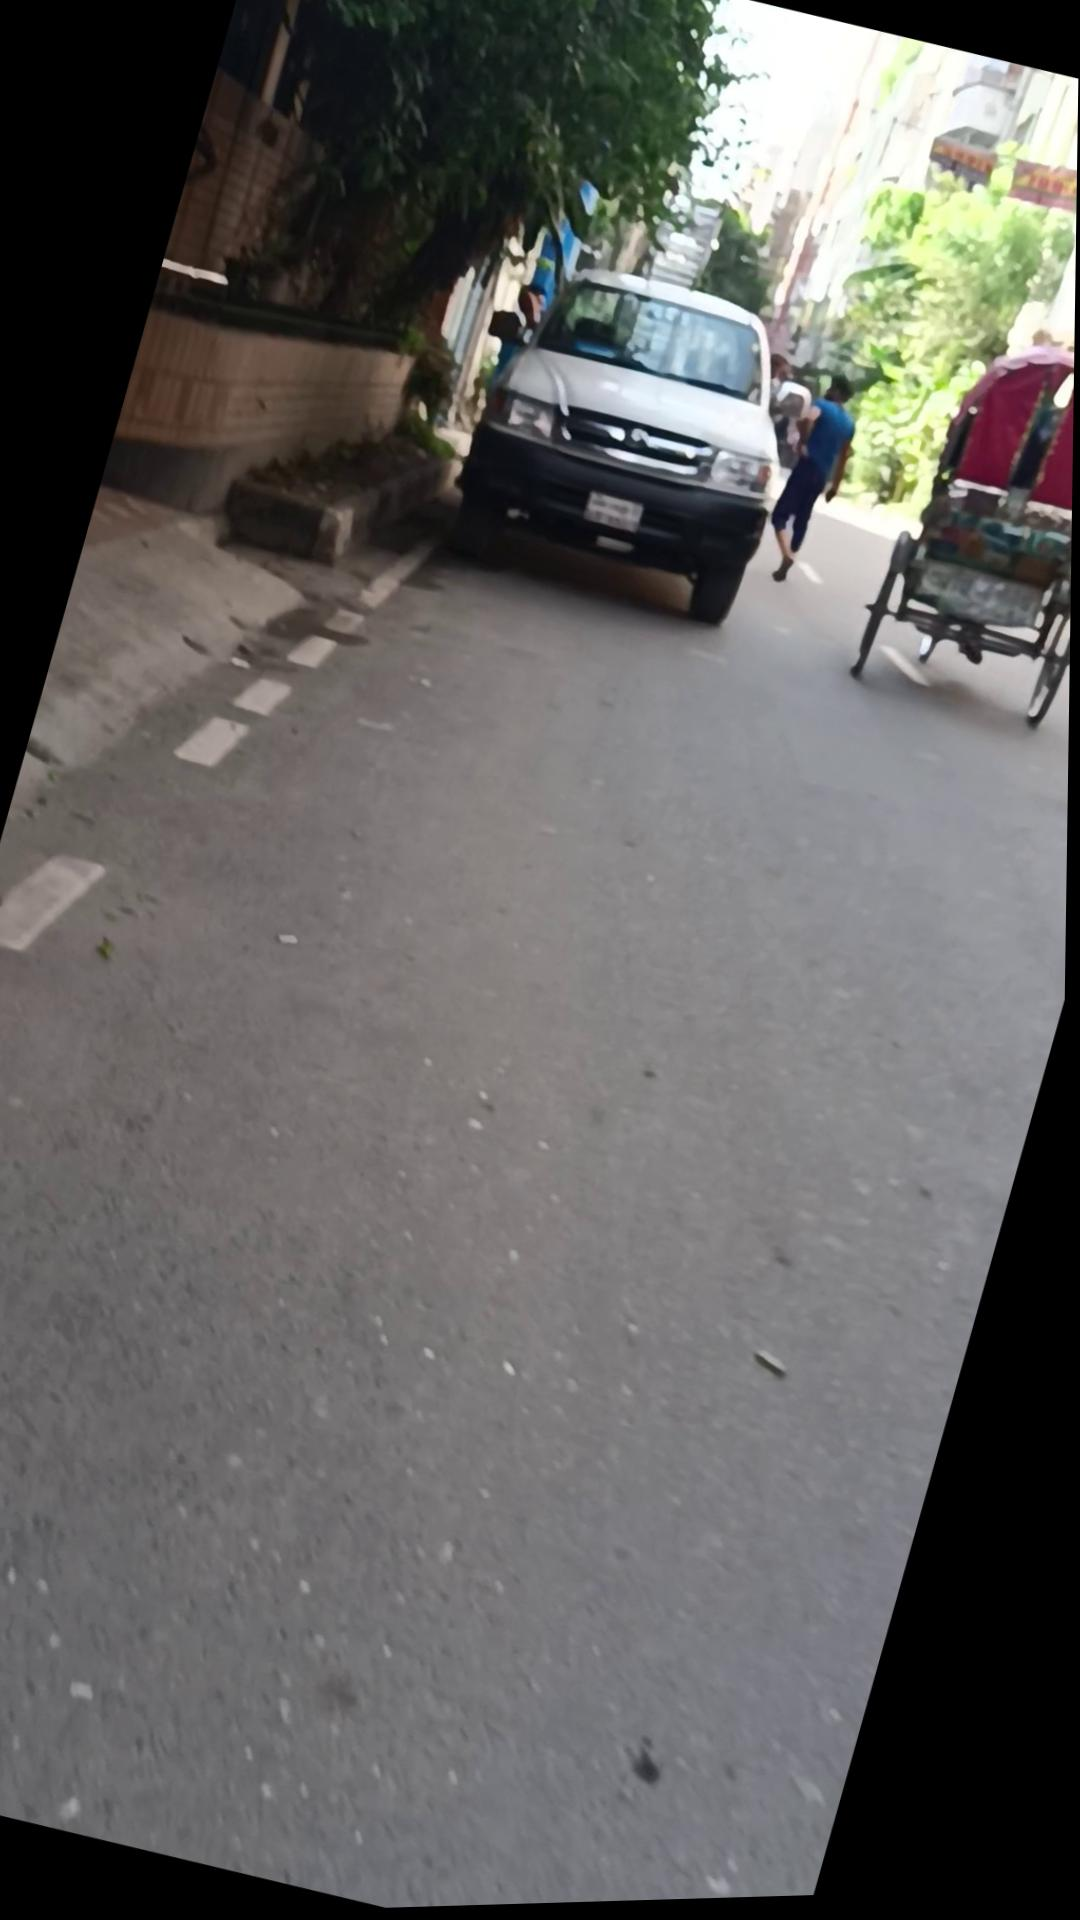Bollard: (434, 240, 828, 644)
Broken-road: (0, 440, 322, 1000), (214, 392, 462, 597)
Crosswalk: (843, 522, 1073, 744)
Curb: (753, 371, 872, 596)
Fence: (844, 327, 1076, 744)
Light-pole: (156, 0, 779, 427), (783, 109, 1079, 543)
Obstacle: (99, 59, 502, 567)
